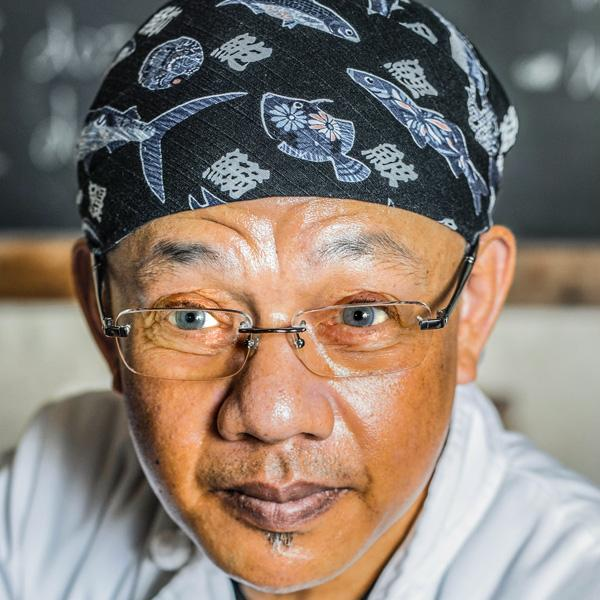Eyes: (144, 286, 239, 349), (311, 286, 406, 345)
